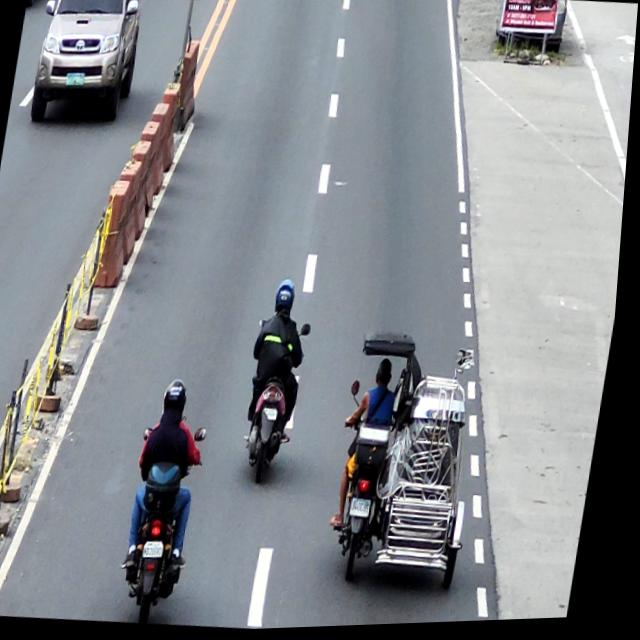Car: (29, 0, 147, 129)
License-Plate: (355, 499, 380, 522), (150, 540, 174, 561), (66, 71, 87, 88), (266, 407, 285, 424)
Motorcycle: (122, 423, 213, 627), (241, 317, 318, 490)
Tricycle: (329, 326, 502, 597)
